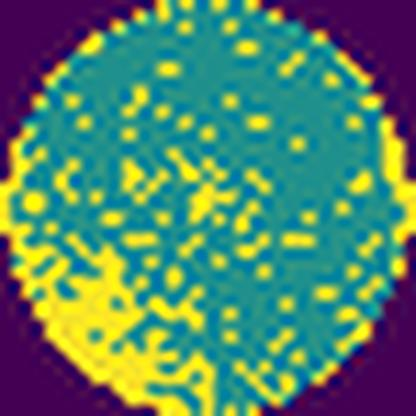Edge-Loc: (0, 125, 213, 415), (373, 108, 416, 247)
